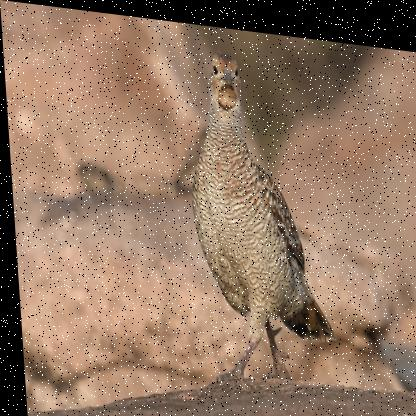Burung: (182, 42, 335, 389)
